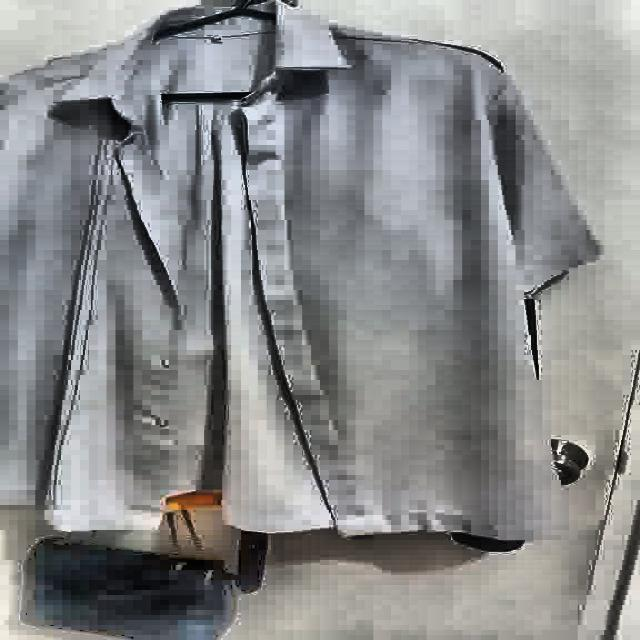clothes: (0, 1, 589, 552)
